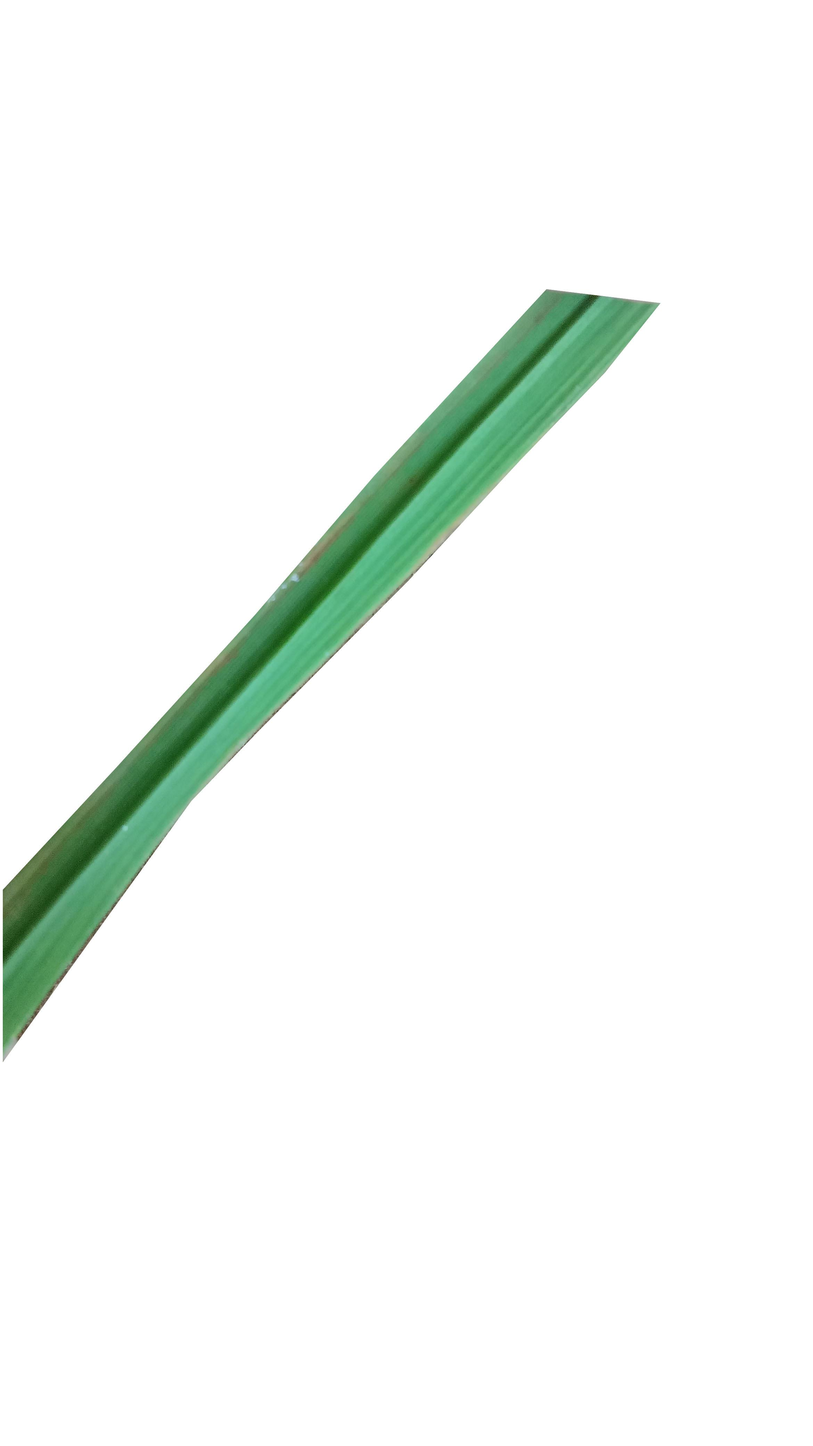Healthy: (0, 289, 659, 1069)
